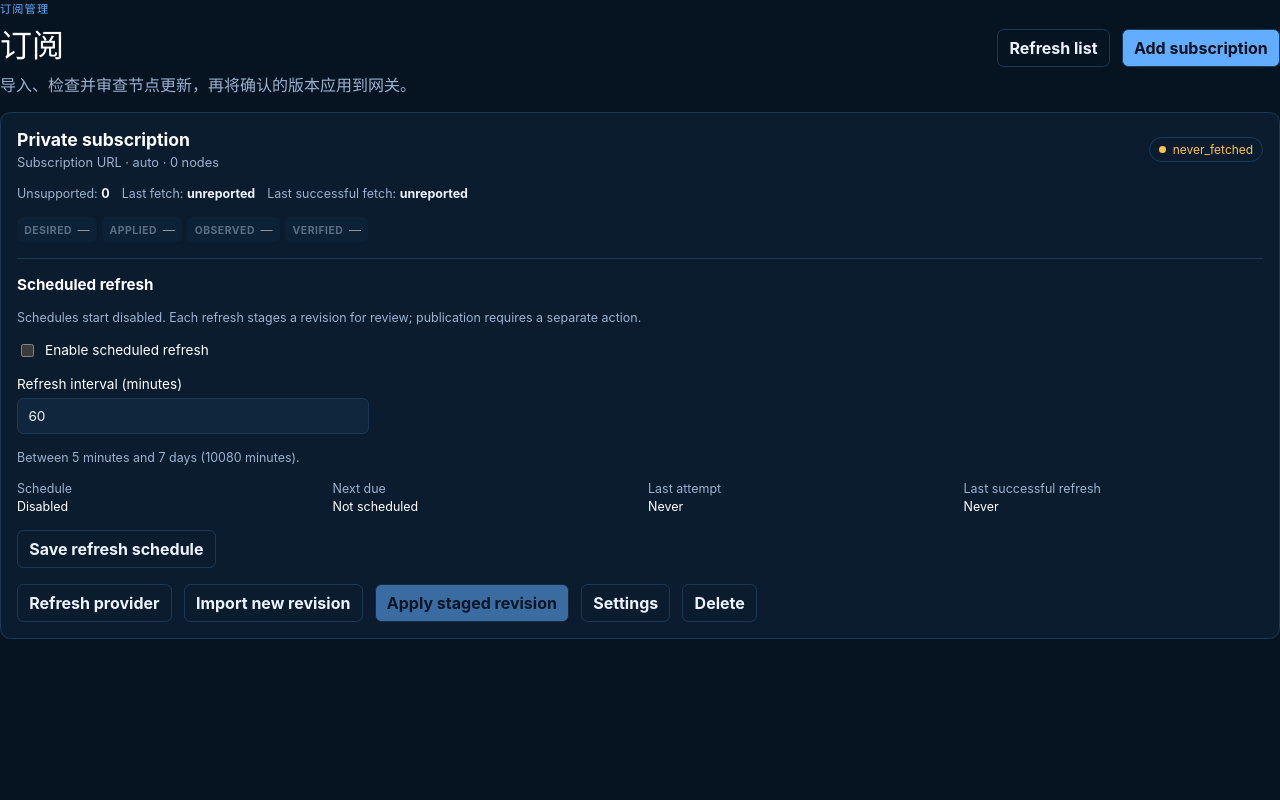
Scenario: provider settings and deletion › verifies deletion after a readback failure without deleting twice
Click the button "Delete": (720, 603) top-left (682, 584), bottom-right (757, 622)
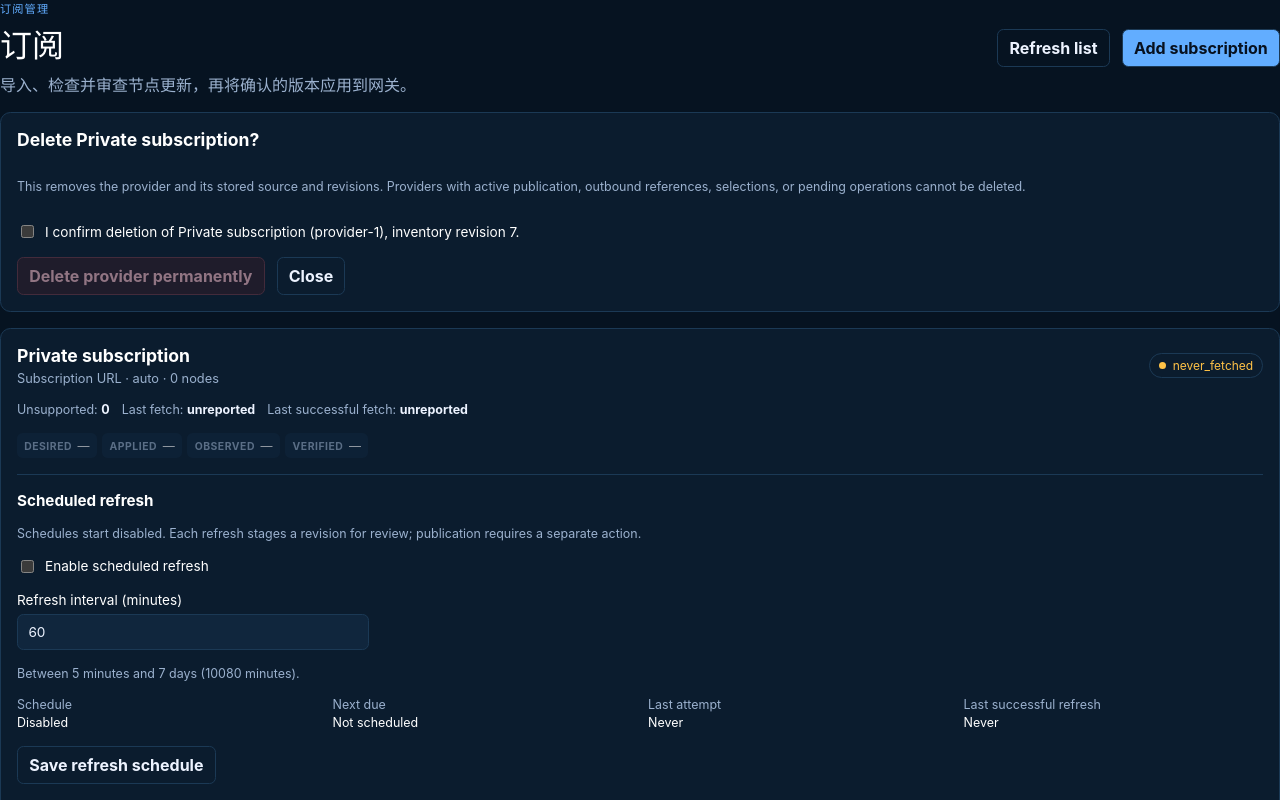
Click the 1st checkbox: (28, 232) top-left (21, 225), bottom-right (34, 238)
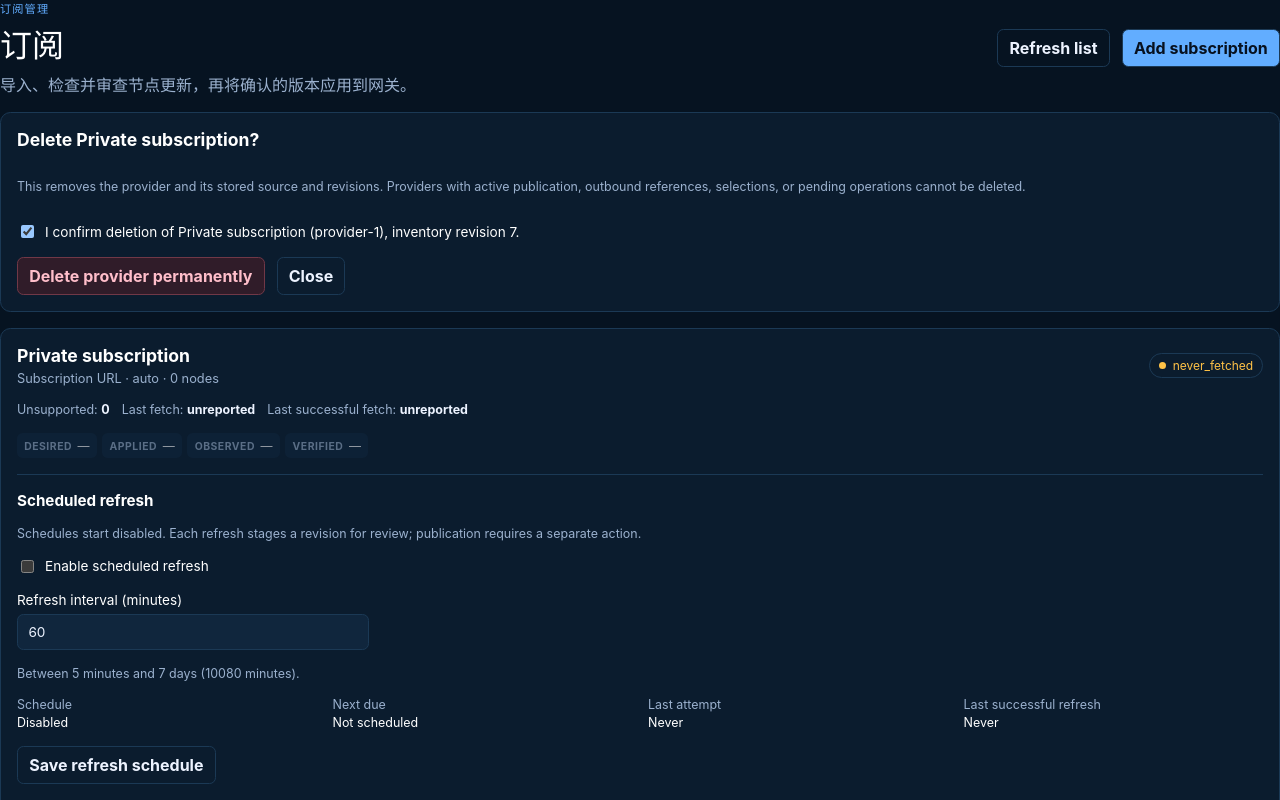
Submit the form named "Delete provider", box top-left (0, 112), bottom-right (1279, 312)
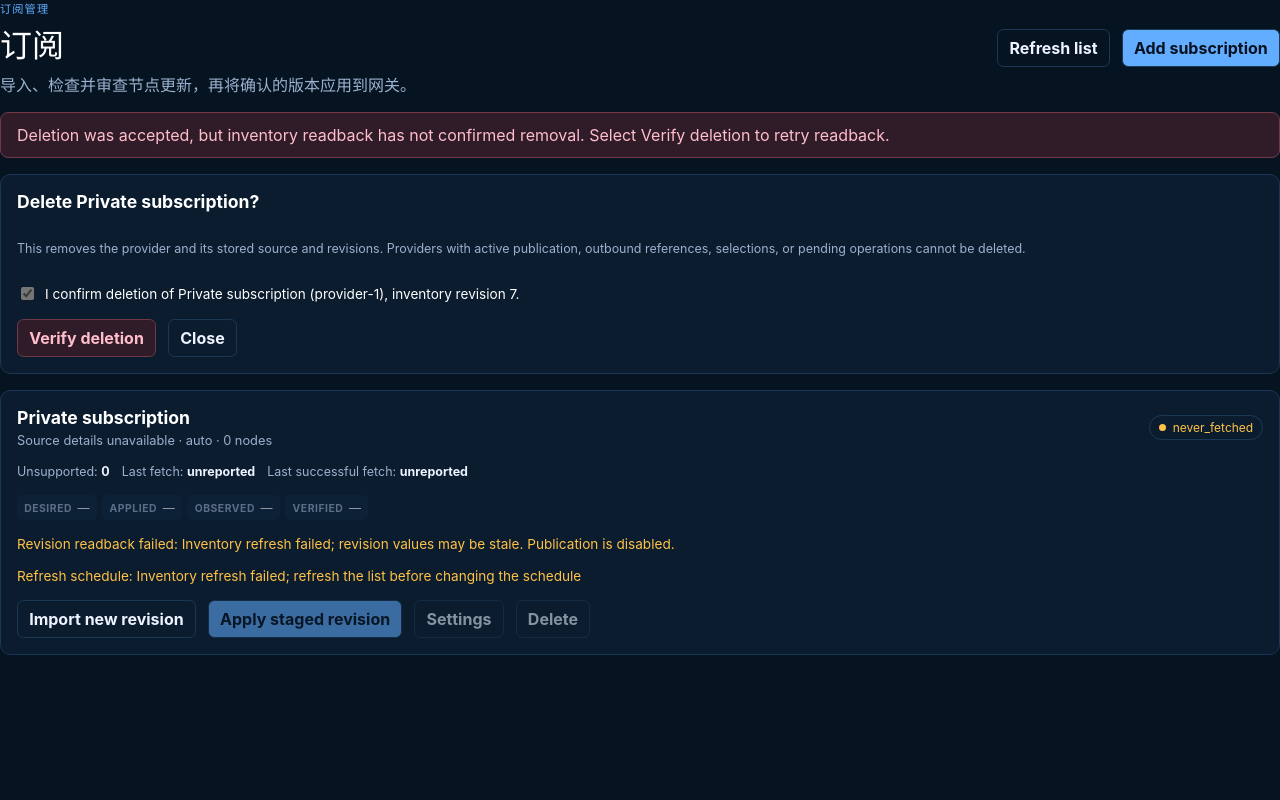
Expected: the text "Removal is confirmed" is not shown
Expected: the text "Verify deletion" is shown, top-left (17, 125), bottom-right (890, 145)
Submit the form named "Delete provider", box top-left (0, 174), bottom-right (1279, 374)
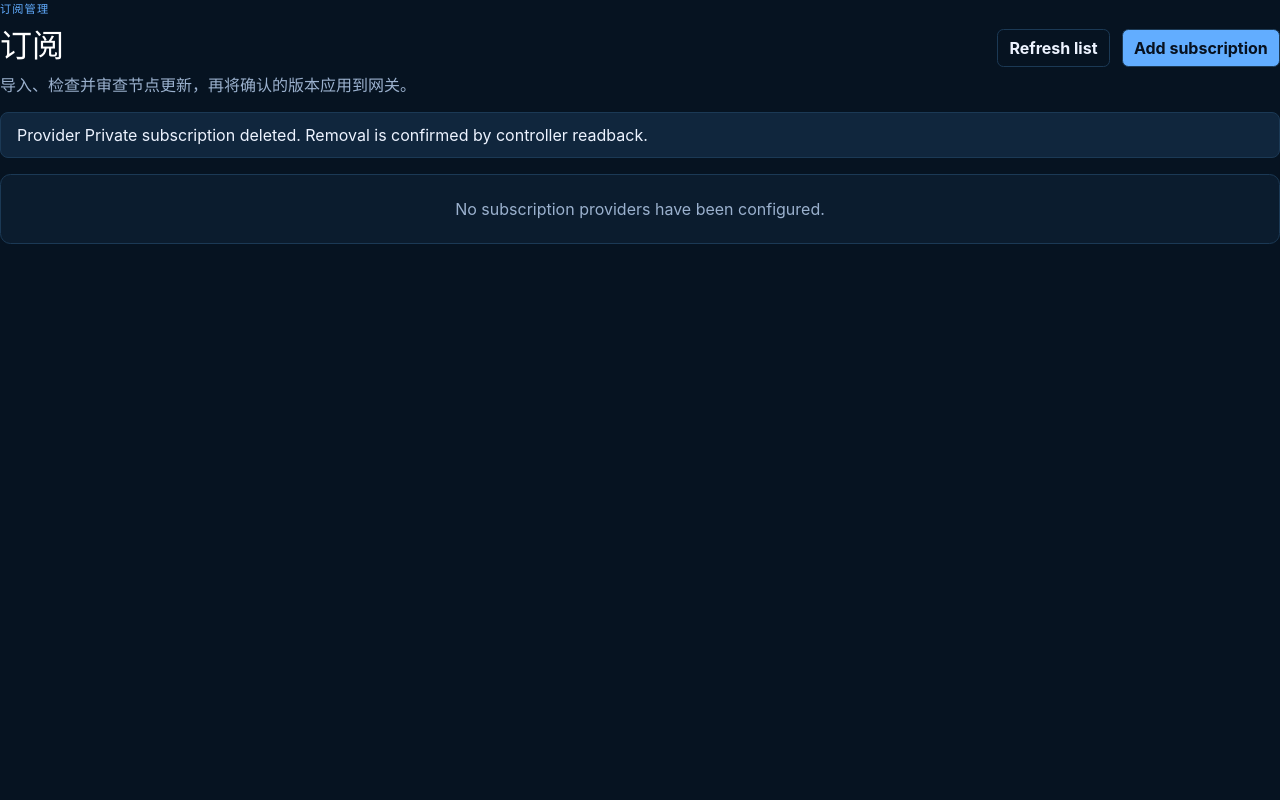
Expected: the text "Removal is confirmed by controller readback" is shown, top-left (17, 125), bottom-right (648, 145)
